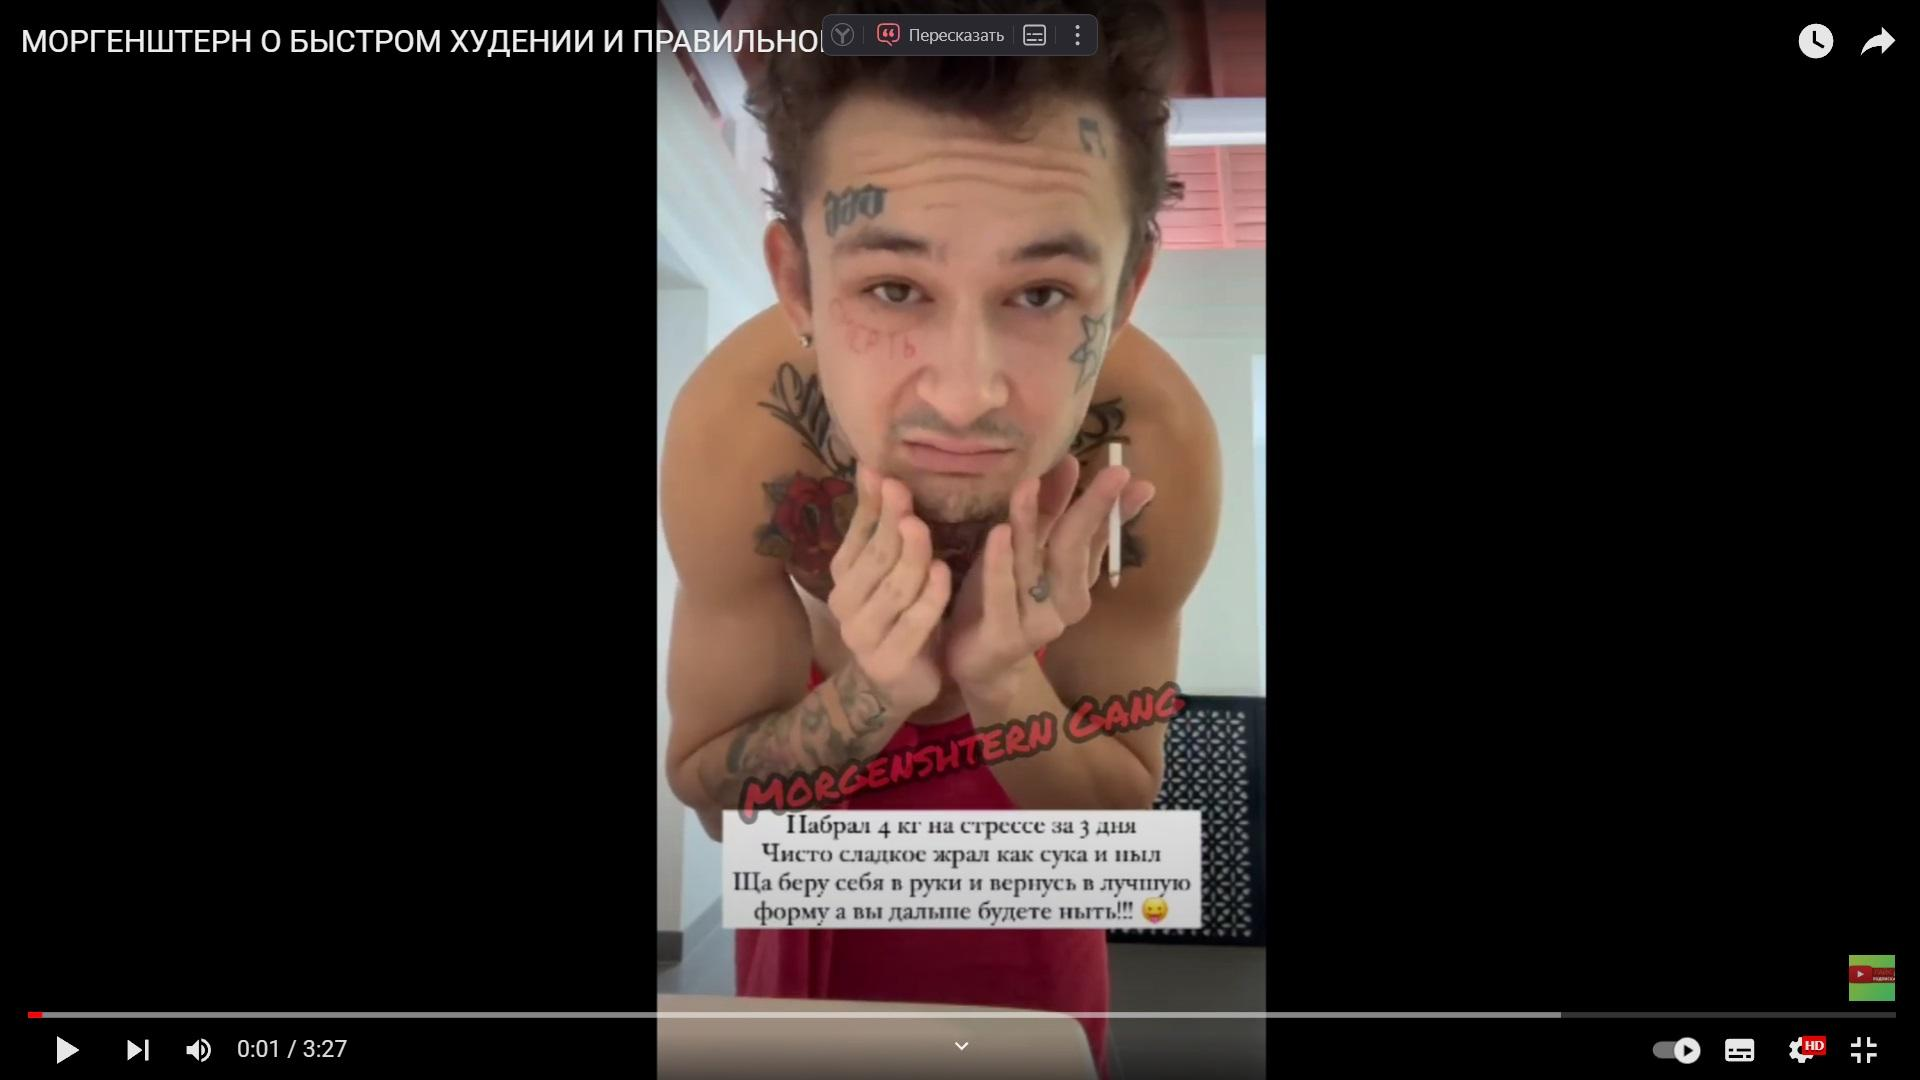cigarette: (1108, 440, 1121, 589)
